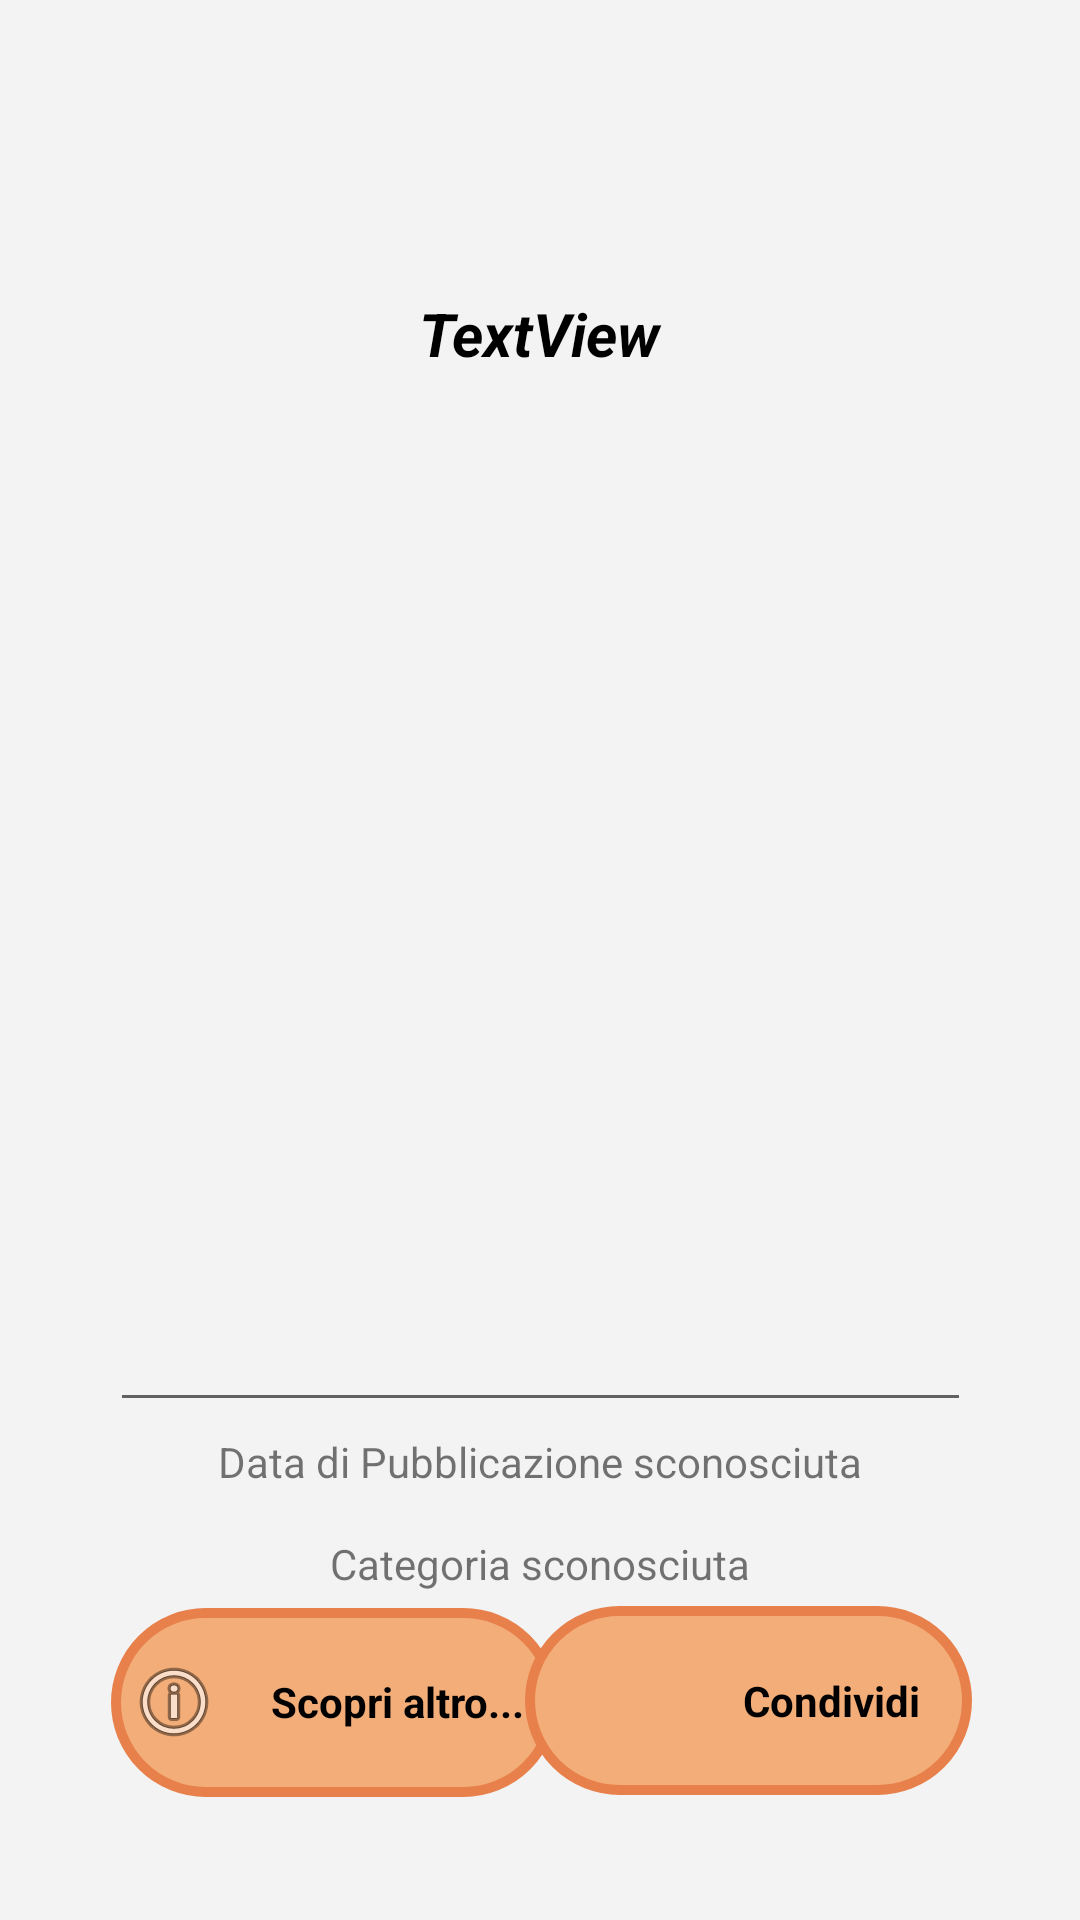

Named icons in this screenshot (1080w x 1920h) and their centers, [x,y]:
info details: [174,1702]
